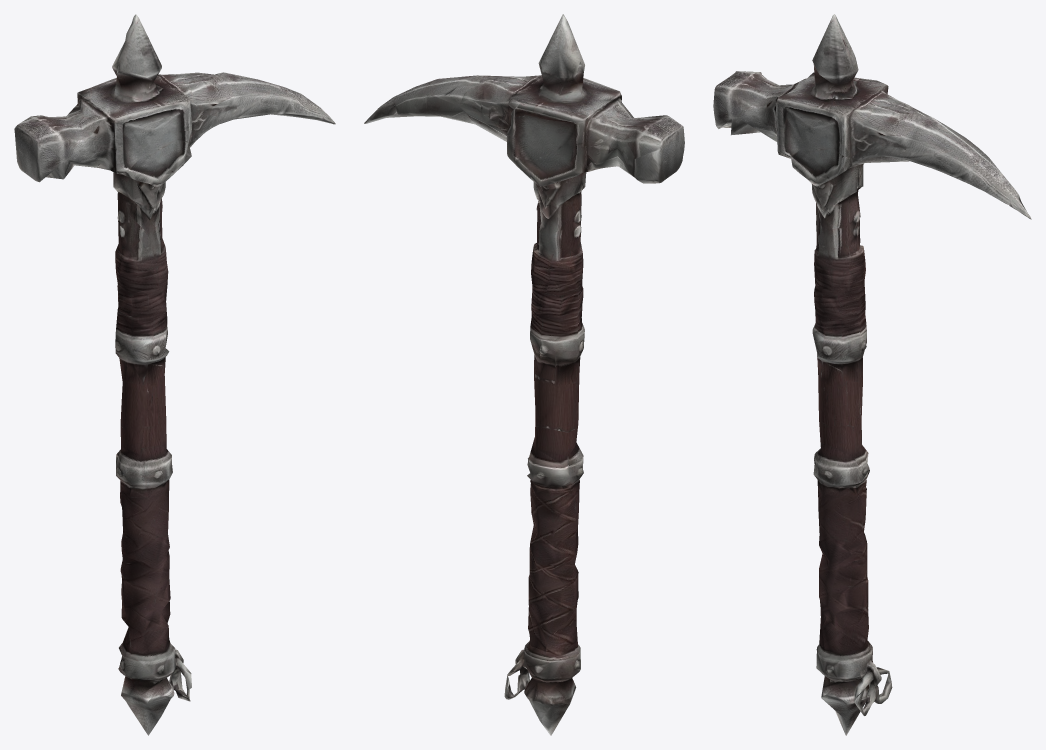
File: 1464_mace.glb
3 renders of one model, left to right at view 1: azimuth 30°, elevation 25°; view 2: azimuth 150°, elevation 25°; view 3: azimuth 330°, elevation 25°, orthographic.
Parts seen in each view (by area): view 1: Model; view 2: Model; view 3: Model.
Part boxes in pixels (x1,y1,x2,y2): Model: (14,14,335,735); Model: (364,14,684,735); Model: (713,14,1031,735).
Size of the model in its own units: 0.4469 by 1 by 0.1132.
Materials: 1 (1 with a texture image).
